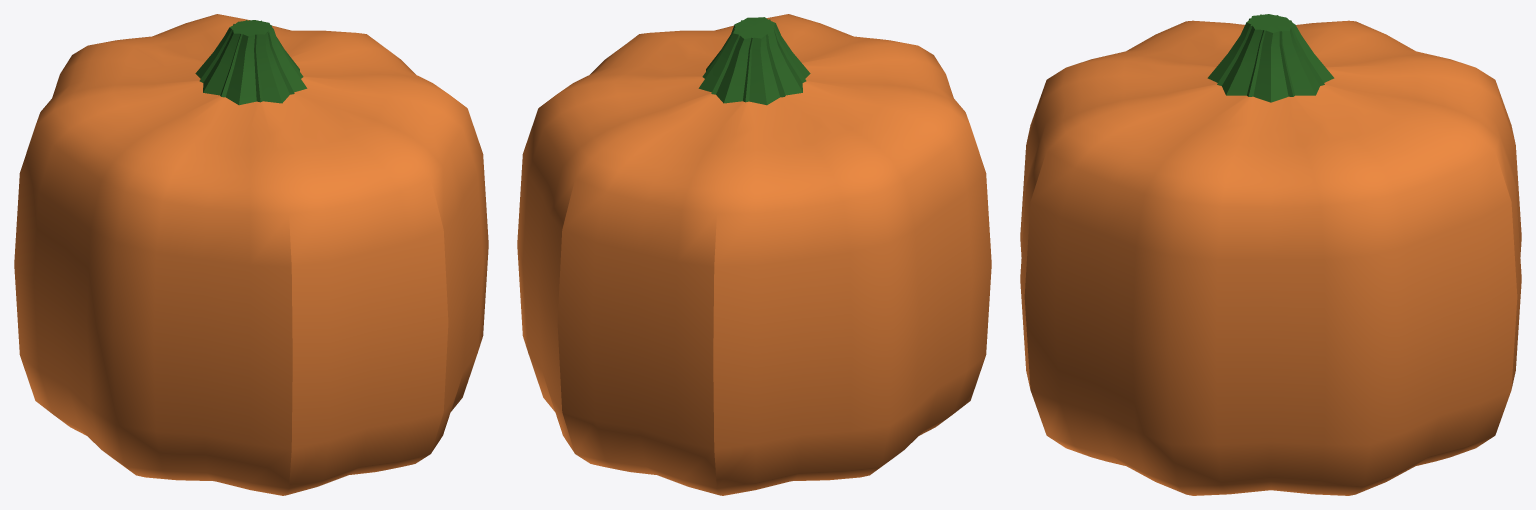
Rendered from pumpkin1.fbx.
The picture shows the model from 3 angles, left to right: view 1: azimuth 30°, elevation 25°; view 2: azimuth 150°, elevation 25°; view 3: azimuth 270°, elevation 25°; orthographic projection. The views are drawn at different scales.
Visible parts, largest first — view 1: Cylinder.001; view 2: Cylinder.001; view 3: Cylinder.001.
Part boxes in pixels (box(x1,y1,x2,y2)): Cylinder.001: box(14, 14, 488, 495); Cylinder.001: box(517, 14, 991, 495); Cylinder.001: box(1020, 14, 1521, 495).
Bounding box in the file's own units: 68.39 × 67.53 × 75.05.
